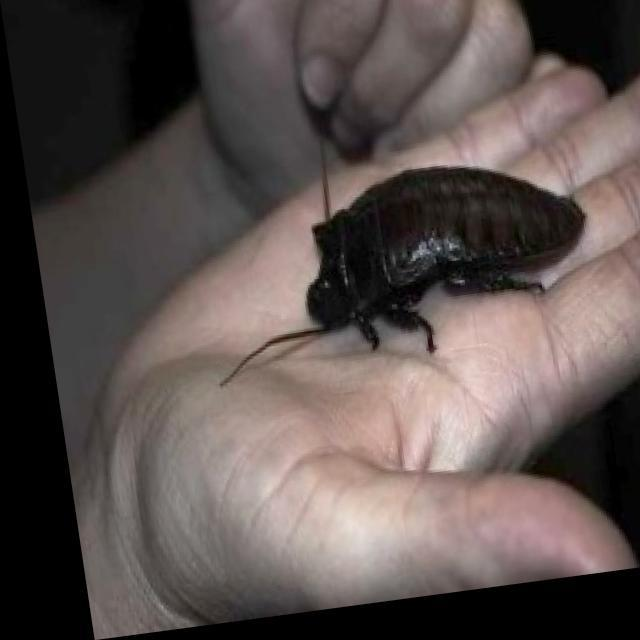cockroach: (215, 159, 589, 390)
